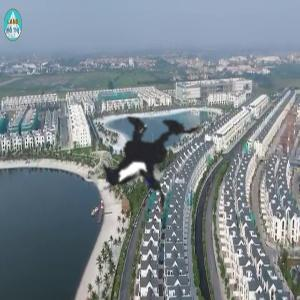drone: (37, 43, 248, 254)
